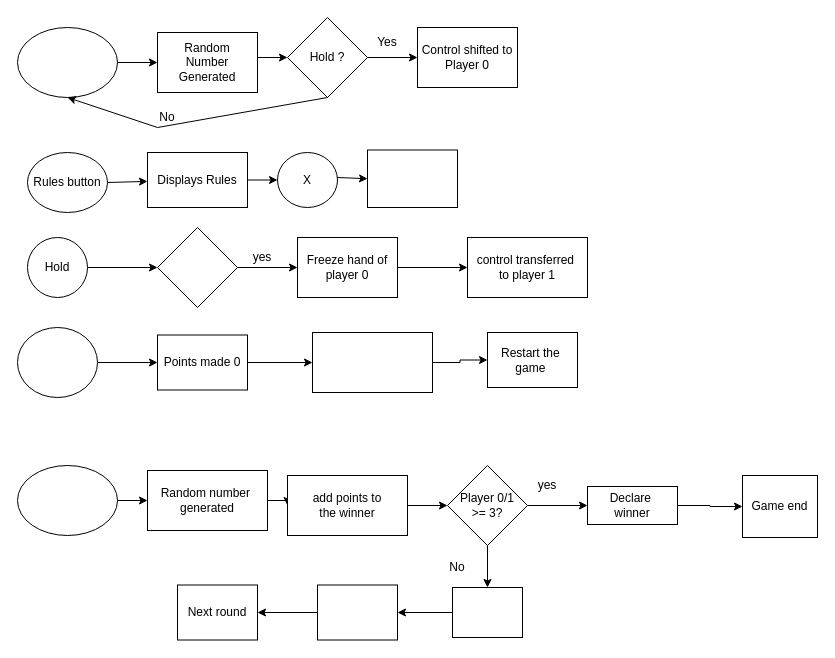
This 835x658 diagram has some shape labels left out. Each missing label, with the centre of its shape:
"Keep the total score" belongs at pixel 487 612.
"New game" belongs at pixel 57 362.
"Player 0 is active?" belongs at pixel 197 267.
"Player 0 plays" belongs at pixel 67 62.
"Player 1 plays" belongs at pixel 67 500.
"Reset to initial conditions" belongs at pixel 372 362.
"Shift control to Player 0" belongs at pixel 357 612.
"Shows game" belongs at pixel 412 178.
